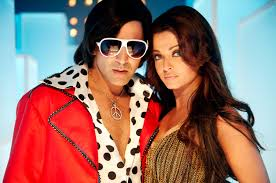Bad: (4, 1, 270, 182)
